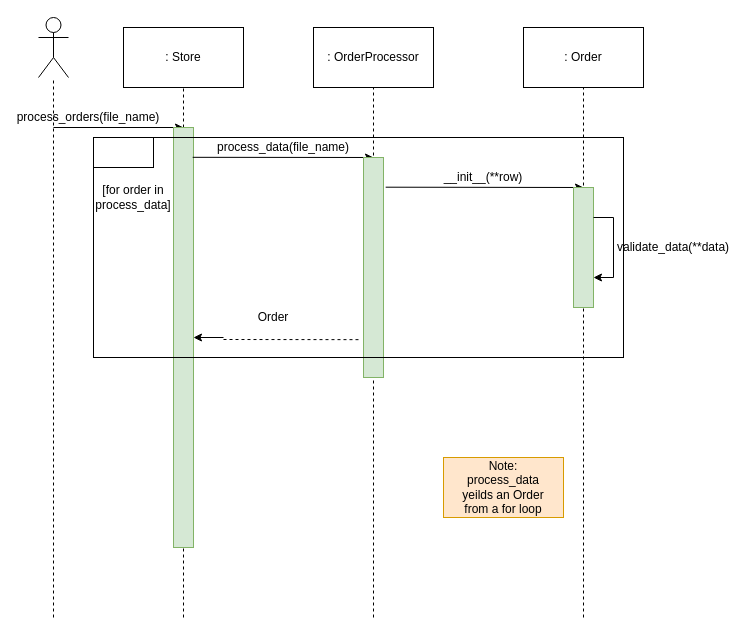
Some shapes in this 747 by 636 pixel diagram are drawn without their labels. The centre of each missing label's shape, as x and y in pixels:
"Actor" belongs at (x=53, y=47).
"Loop" belongs at (x=123, y=152).
